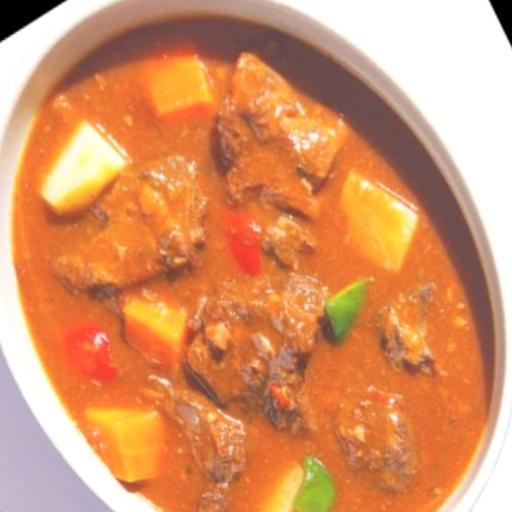pork caldereta: (4, 24, 506, 511)
